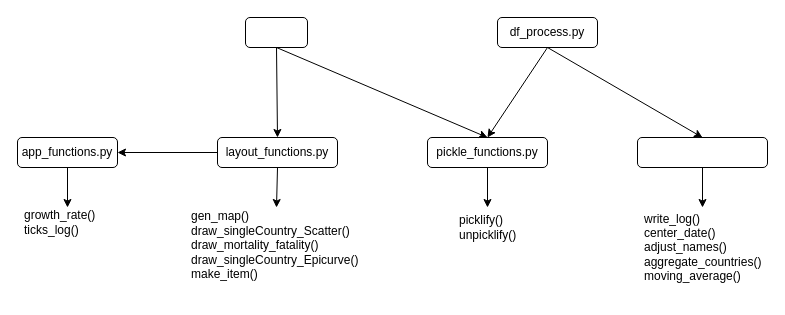
Some shapes in this 785 by 315 pixel diagram are drawn without their labels. The shapes that lost their labels are listed below. From the top down, each one's centre as x and y in pixels, then its label:
pixel 276 32: app.py
pixel 702 152: process_functions.py
